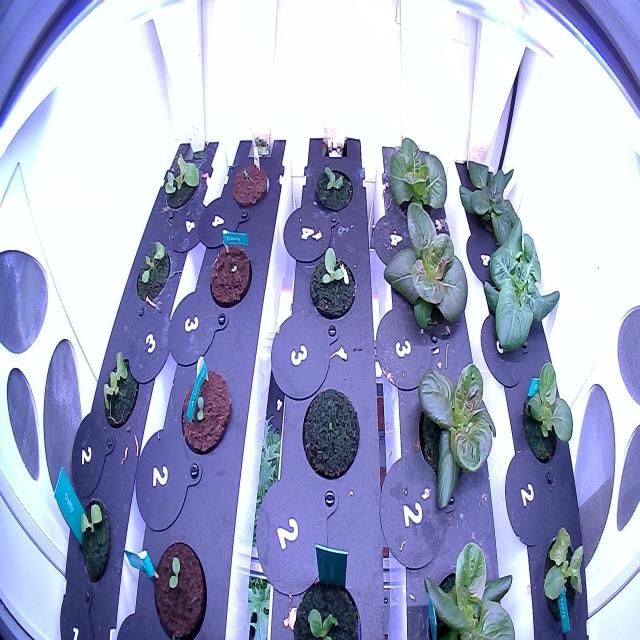germination: (150, 536, 208, 637), (178, 357, 234, 459), (288, 572, 366, 639), (306, 242, 358, 328), (75, 489, 114, 588), (312, 160, 355, 216)
pod: (297, 382, 364, 484), (206, 241, 254, 314), (225, 154, 271, 217)
young: (404, 352, 507, 526), (380, 197, 473, 342), (477, 212, 563, 361), (416, 537, 520, 640), (454, 148, 528, 248), (380, 128, 451, 228), (519, 354, 576, 476), (538, 513, 588, 626), (97, 344, 144, 436), (131, 233, 176, 313), (158, 146, 204, 220)
